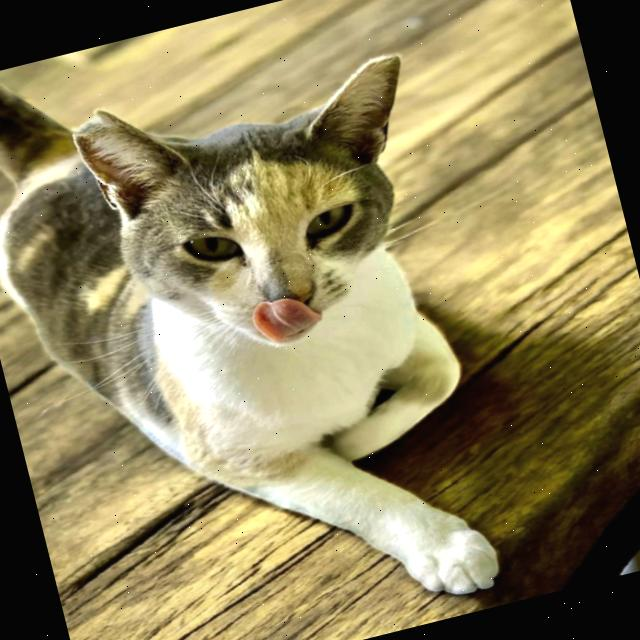calico_cat: (46, 23, 474, 400)
